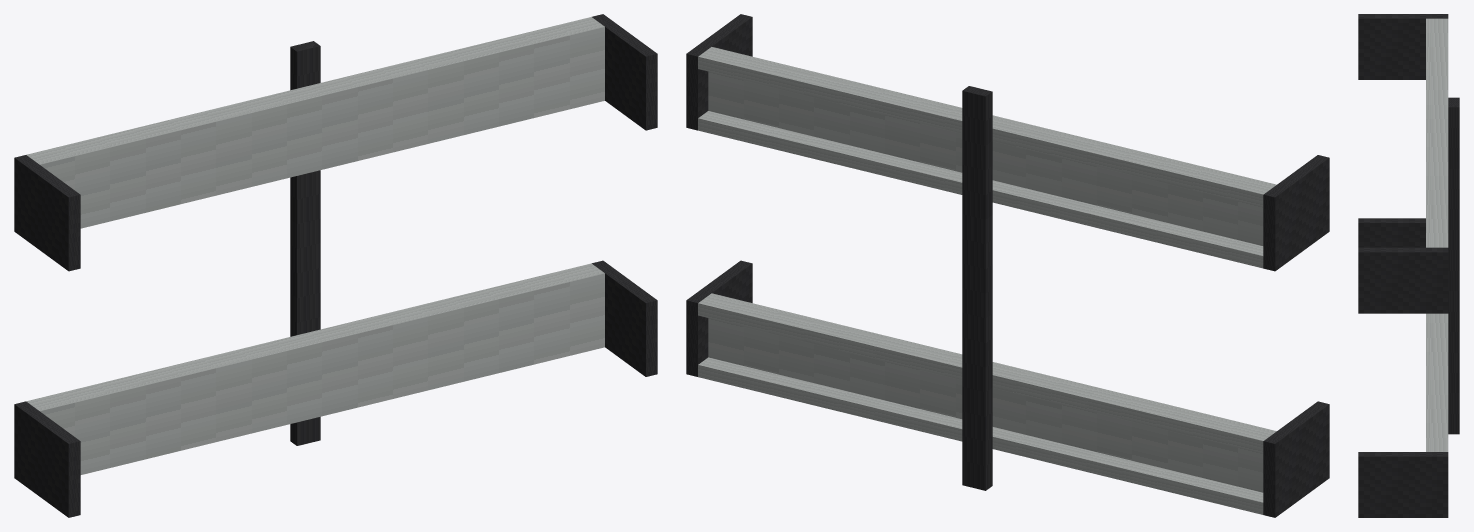
Rendered from mount_3.obj.
3 views of the same model, side by side, from view 1: azimuth 30°, elevation 25°; view 2: azimuth 150°, elevation 25°; view 3: azimuth 270°, elevation 25° (orthographic). The views are drawn at different scales.
Parts seen in each view (by area): view 1: transformer_bank_mount_3; view 2: transformer_bank_mount_3; view 3: transformer_bank_mount_3.
Part boxes in pixels (box(x1,y1,x2,y2)): transformer_bank_mount_3: box(14, 14, 657, 517); transformer_bank_mount_3: box(686, 14, 1329, 517); transformer_bank_mount_3: box(1358, 14, 1459, 517).
Bounding box in the file's own units: 3.12 × 2 × 0.5625.
